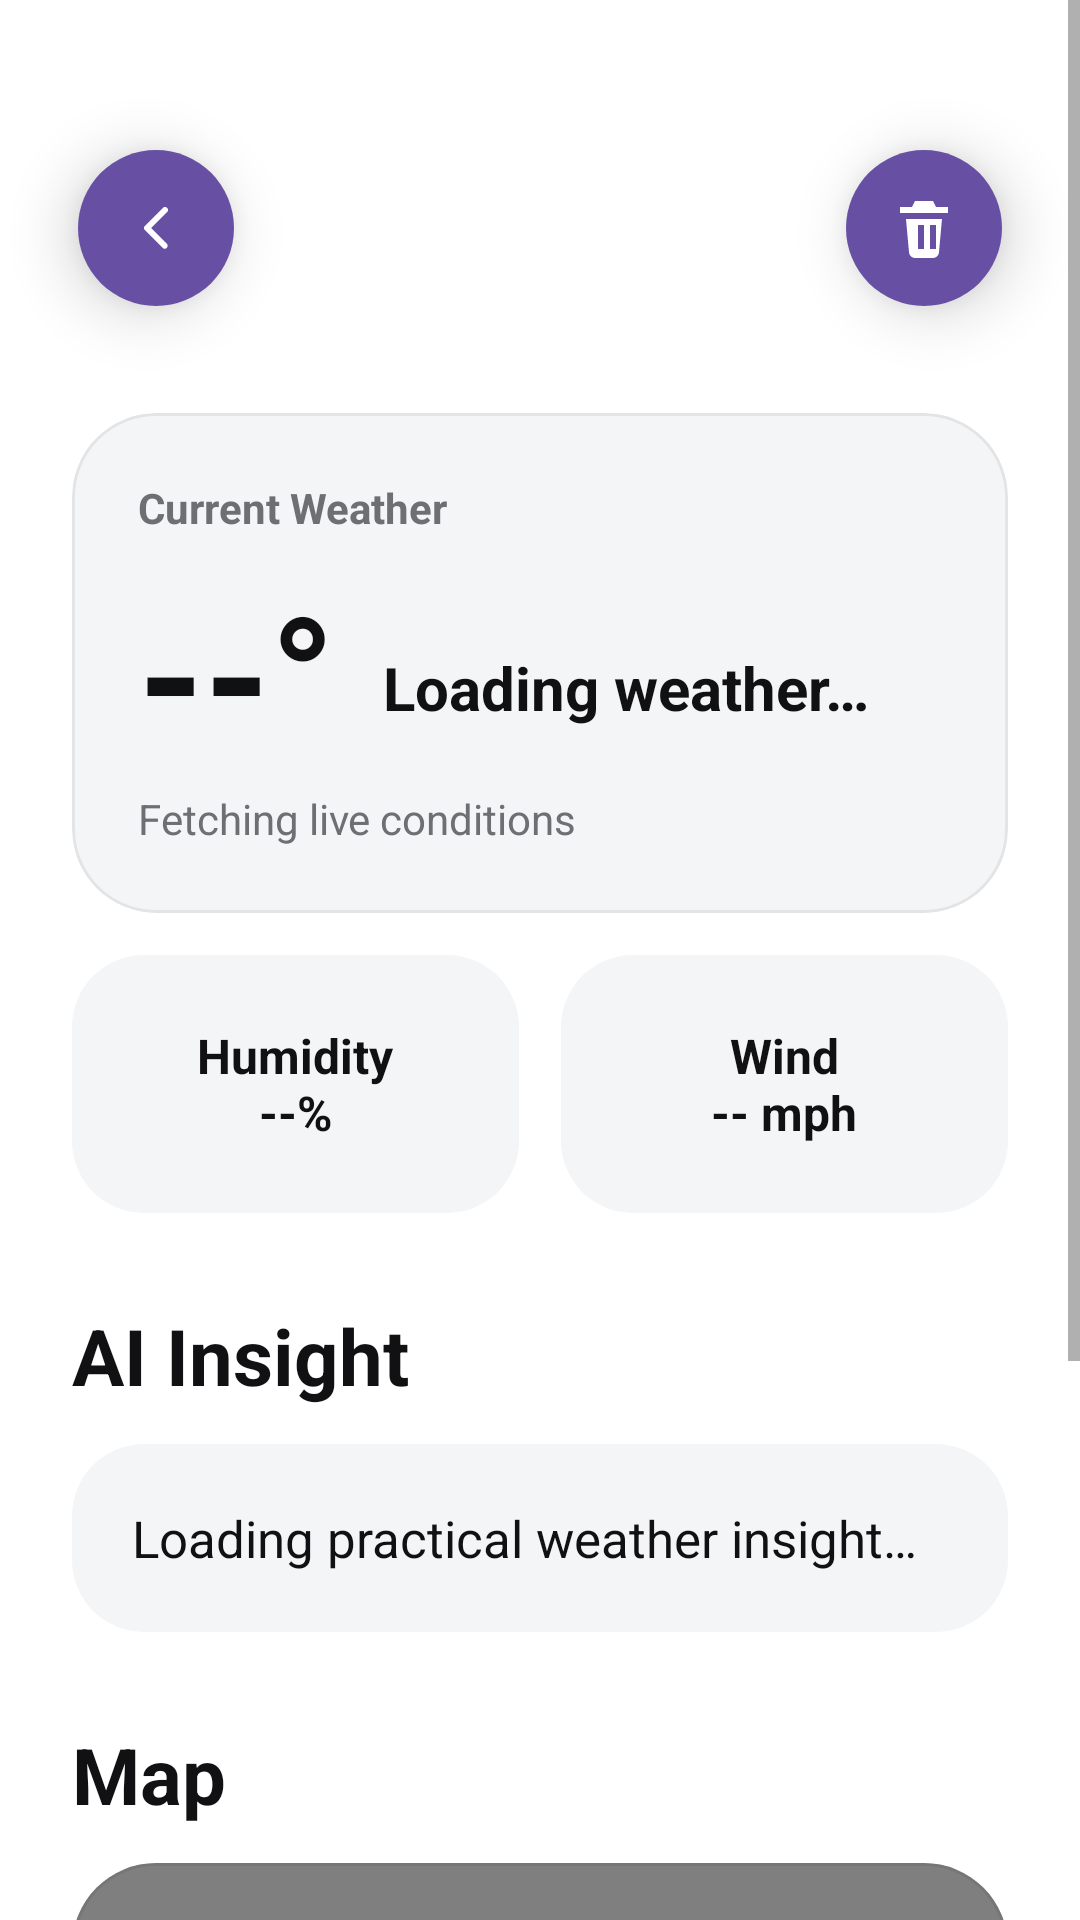

Screen size 1080 x 1920. Icon name, then its center in pixels as [x,y]:
Back: [156,228]
Remove city from library: [924,228]
